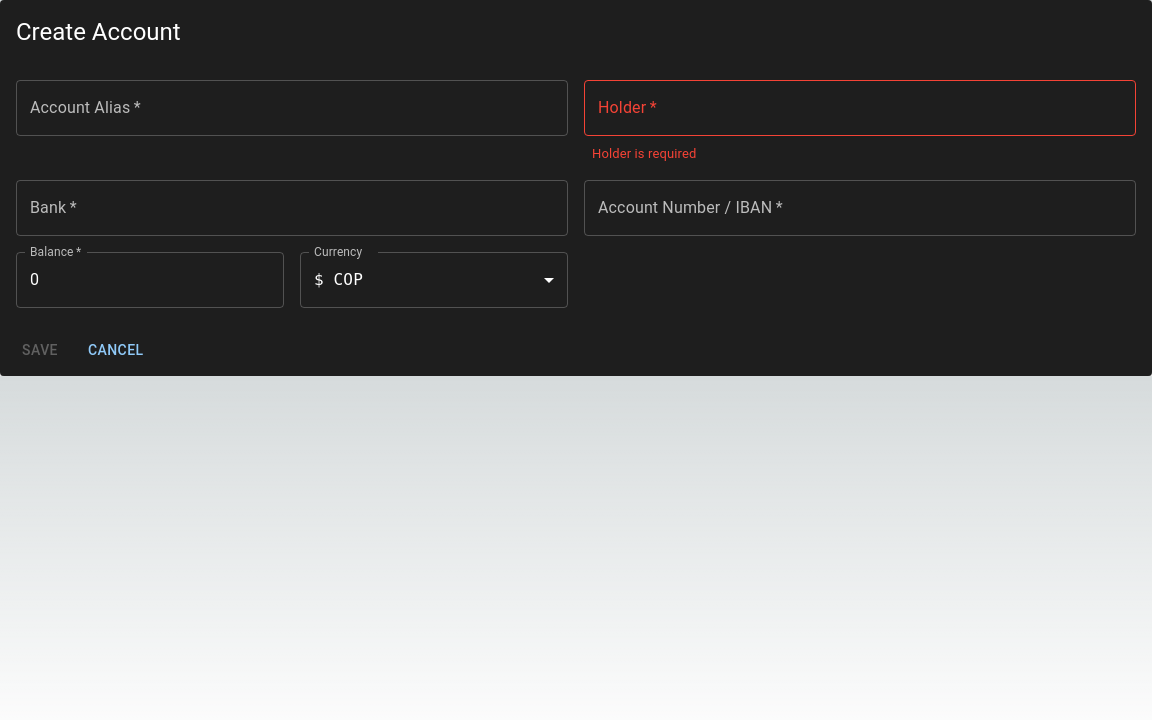
Test case: AccountForm UI › hides error message for holder when holder is valid
Check: the text "Holder is required" is shown, box [592,146,696,161]
Type "My Self" into the field labelled "Holder *".
click(860, 108); type("My Self")  # box [584,80,1136,136]
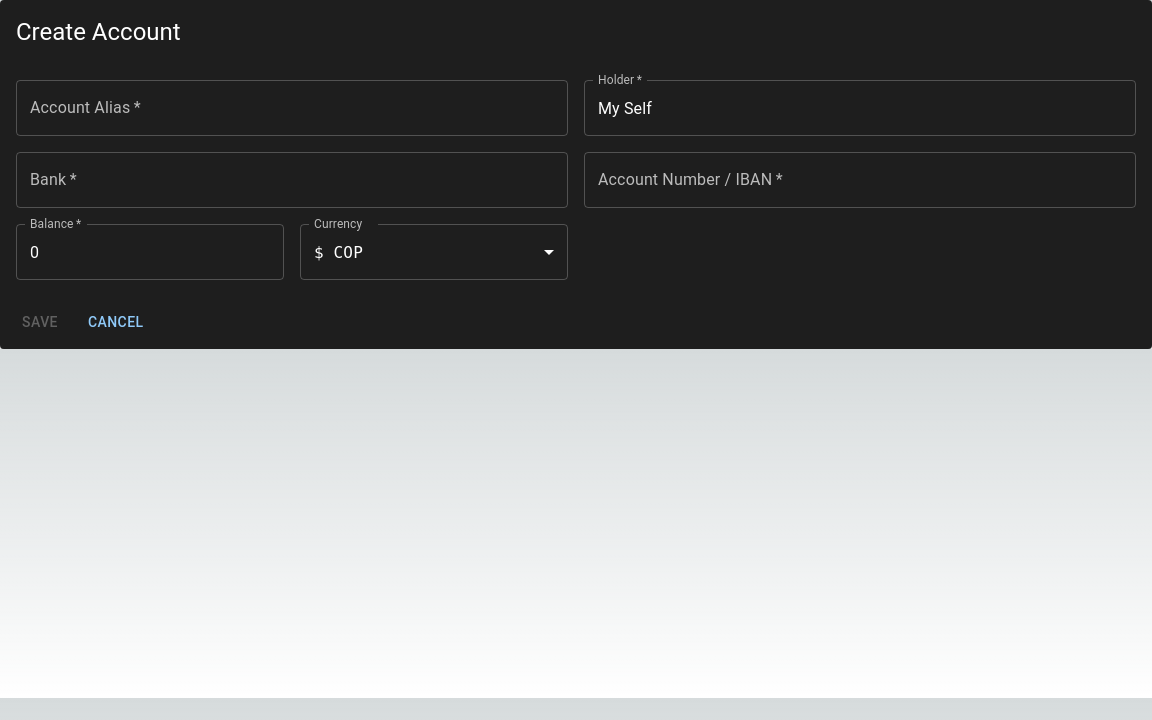
Check: the text "Holder is required" is gone
